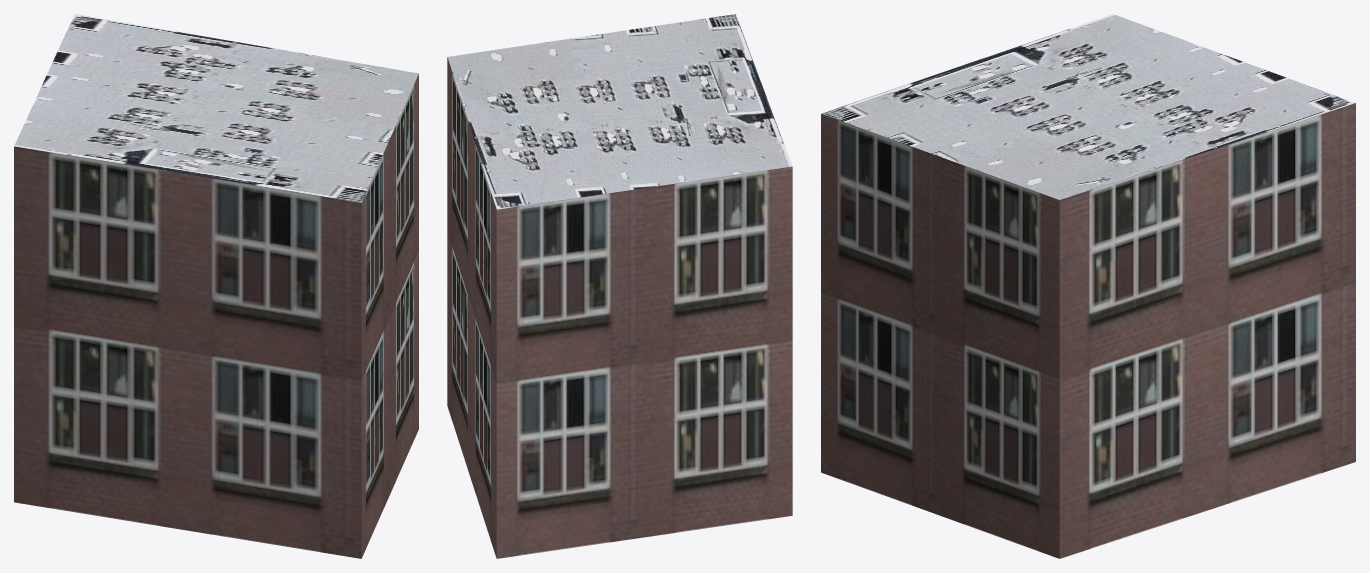
Rendered from ResTex__1517.fbx.
3 renders of one model, left to right at view 1: azimuth 30°, elevation 25°; view 2: azimuth 150°, elevation 25°; view 3: azimuth 270°, elevation 25°, orthographic. The views are drawn at different scales.
Visible parts, largest first — view 1: CityEngineMaterial_12_m, CityEngineMaterial_8_m; view 2: CityEngineMaterial_12_m, CityEngineMaterial_8_m; view 3: CityEngineMaterial_12_m, CityEngineMaterial_8_m.
Part boxes in pixels (x1,y1,x2,y2): CityEngineMaterial_12_m: [14, 74, 418, 558]; CityEngineMaterial_8_m: [14, 14, 418, 202]; CityEngineMaterial_12_m: [447, 57, 792, 558]; CityEngineMaterial_8_m: [447, 14, 792, 209]; CityEngineMaterial_12_m: [821, 103, 1355, 558]; CityEngineMaterial_8_m: [821, 14, 1355, 199].
Size of the model in its own units: 6.67 by 6 by 8.11.
2 materials, 2 textured.
